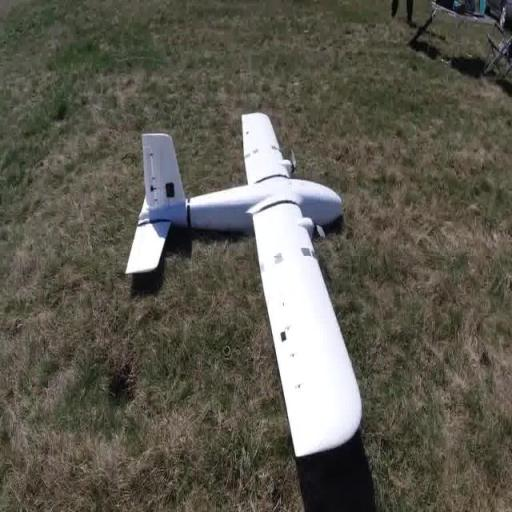uav: (126, 106, 367, 467)
